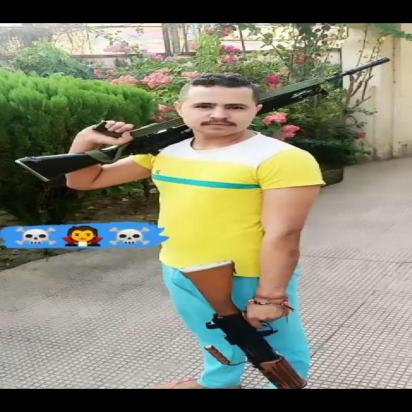Gun: (10, 55, 396, 184), (174, 258, 309, 388)
